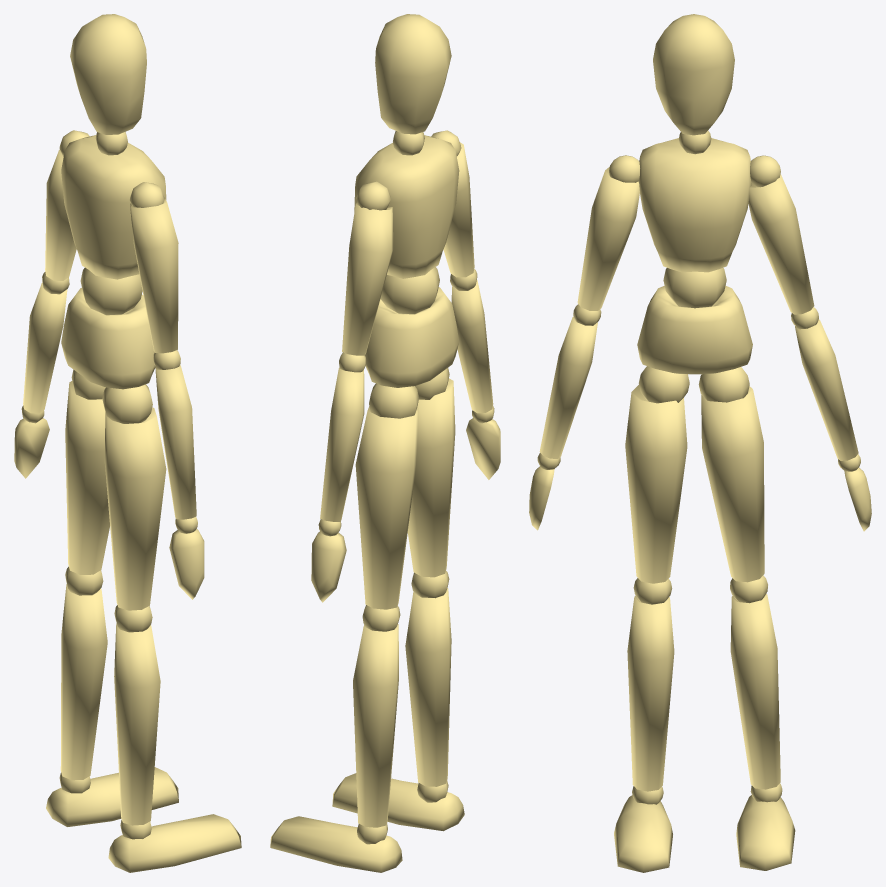
Rendered from mannequin.fbx.
3 renders of one model, left to right at view 1: azimuth 30°, elevation 25°; view 2: azimuth 150°, elevation 25°; view 3: azimuth 270°, elevation 25°, orthographic. The views are drawn at different scales.
Visible parts, largest first — view 1: Cylinder.003, Cylinder.002, Cylinder.001, Cylinder.006, Cylinder, Sphere.008, Cylinder.007, Cylinder.004, Sphere, Cylinder.005, Sphere.014, Cylinder.008 (+3 smaller); view 2: Cylinder.003, Cylinder.002, Cylinder.006, Cylinder.001, Cylinder.007, Cylinder, Sphere.008, Cylinder.009, Sphere.014, Cylinder.008, Sphere, Cylinder.005 (+3 smaller); view 3: Cylinder.003, Cylinder.002, Cylinder.001, Cylinder.006, Sphere.008, Cylinder.007, Cylinder, Cylinder.004, Cylinder.009, Cylinder.005, Cylinder.008, Sphere (+3 smaller).
Part boxes in pixels (x1,y1,x2,y2): Cylinder.003: (59, 130, 166, 279); Cylinder.002: (61, 267, 155, 423); Cylinder.001: (104, 407, 166, 632); Cylinder.006: (65, 381, 109, 595); Cylinder: (114, 623, 160, 825); Sphere.008: (70, 14, 146, 134); Cylinder.007: (60, 584, 107, 780); Cylinder.004: (130, 199, 180, 369); Sphere: (108, 814, 241, 872); Cylinder.005: (155, 365, 196, 519); Sphere.014: (46, 767, 178, 826); Cylinder.008: (23, 282, 67, 413); Cylinder.003: (354, 130, 461, 278); Cylinder.002: (365, 267, 459, 418); Cylinder.006: (355, 406, 418, 631); Cylinder.001: (407, 378, 455, 598); Cylinder.007: (353, 624, 398, 827); Cylinder: (405, 588, 451, 786); Sphere.008: (375, 14, 451, 134); Cylinder.009: (339, 202, 393, 372); Sphere.014: (270, 816, 402, 872); Cylinder.008: (320, 367, 364, 521); Sphere: (332, 773, 464, 831); Cylinder.005: (451, 280, 493, 413); Cylinder.003: (609, 130, 780, 272); Cylinder.002: (637, 268, 752, 403); Cylinder.001: (625, 385, 687, 604); Cylinder.006: (701, 386, 767, 603); Sphere.008: (653, 14, 734, 135); Cylinder.007: (730, 594, 780, 789); Cylinder: (627, 595, 674, 791); Cylinder.004: (573, 166, 639, 325); Cylinder.009: (748, 174, 818, 329); Cylinder.005: (539, 316, 597, 458); Cylinder.008: (795, 319, 858, 460); Sphere: (614, 786, 672, 872).
Bounding box in the file's own units: 21.33 × 120 × 46.04.
